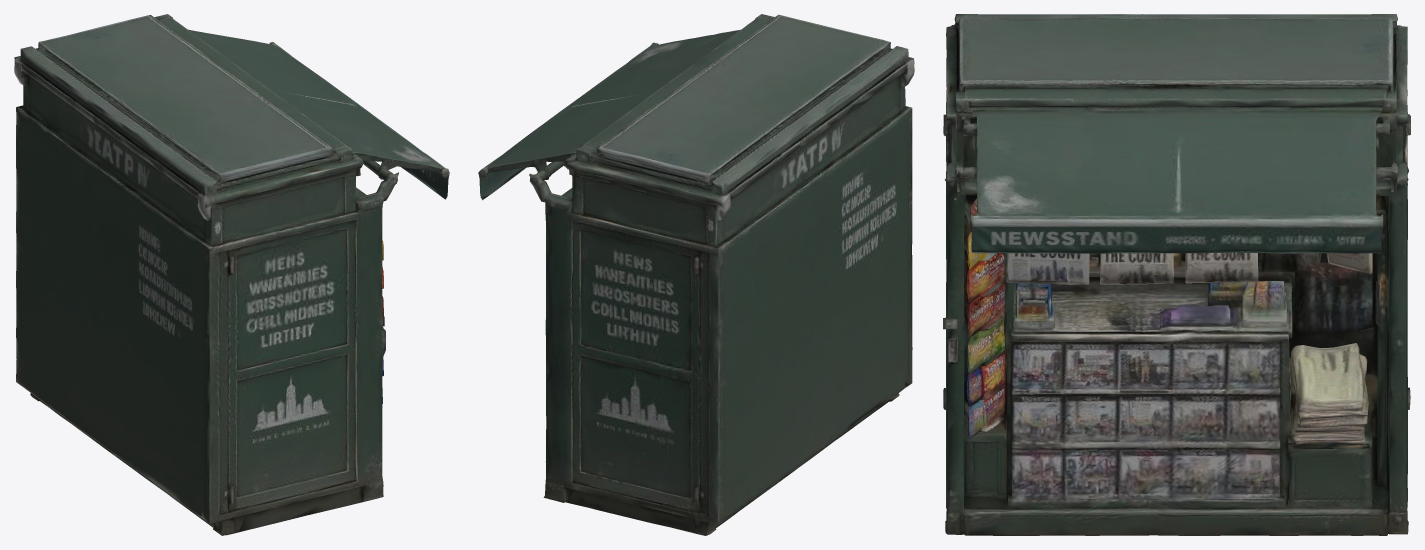
The model's file is newsstand.glb.
The picture shows the model from 3 angles, left to right: view 1: azimuth 30°, elevation 25°; view 2: azimuth 150°, elevation 25°; view 3: azimuth 270°, elevation 25°; orthographic projection. The views are drawn at different scales.
Parts seen in each view (by area): view 1: tripo_node_f13b134b-56c4-4405-831d-e8bfa99269b6; view 2: tripo_node_f13b134b-56c4-4405-831d-e8bfa99269b6; view 3: tripo_node_f13b134b-56c4-4405-831d-e8bfa99269b6.
Part boxes in pixels (x1,y1,x2,y2): tripo_node_f13b134b-56c4-4405-831d-e8bfa99269b6: [14, 14, 449, 535]; tripo_node_f13b134b-56c4-4405-831d-e8bfa99269b6: [478, 14, 914, 535]; tripo_node_f13b134b-56c4-4405-831d-e8bfa99269b6: [943, 14, 1410, 535].
Size of the model in its own units: 0.7402 by 1 by 0.9899.
Materials: 1 (1 with a texture image).
